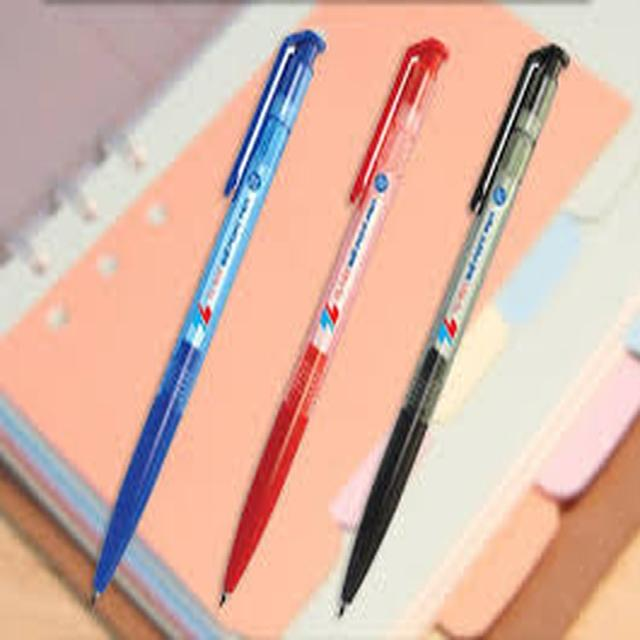pen: (63, 14, 344, 621), (318, 13, 592, 635), (201, 9, 470, 623)
